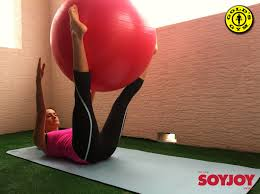red ball: (49, 1, 156, 92)
